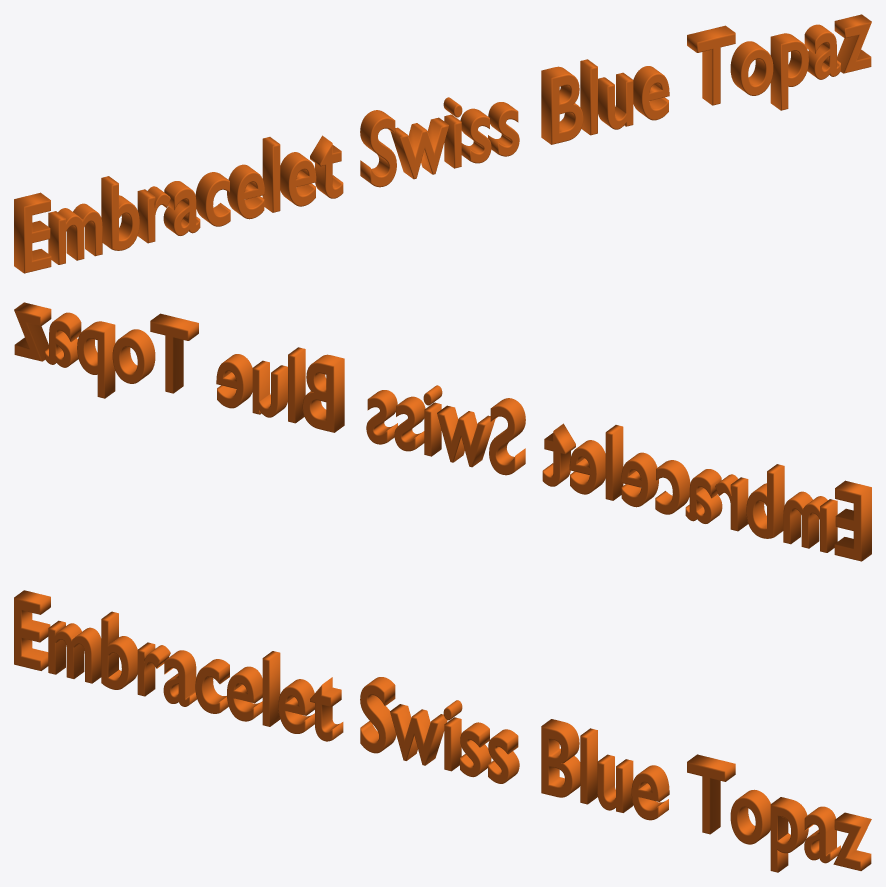
3 views of the same model, one above another, from view 1: azimuth 30°, elevation 25°; view 2: azimuth 150°, elevation 25°; view 3: azimuth 330°, elevation 25° (orthographic).
Parts seen in each view (by area): view 1: Text; view 2: Text; view 3: Text.
Part boxes in pixels (x1=…): Text: x1=14, y1=14, x2=871, y2=273; Text: x1=14, y1=302, x2=871, y2=561; Text: x1=14, y1=590, x2=871, y2=872.
Size of the model in its own units: 19.7 by 1.99 by 0.44.
